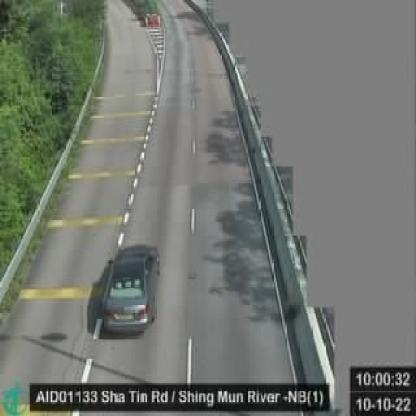Car: (101, 244, 161, 337)
